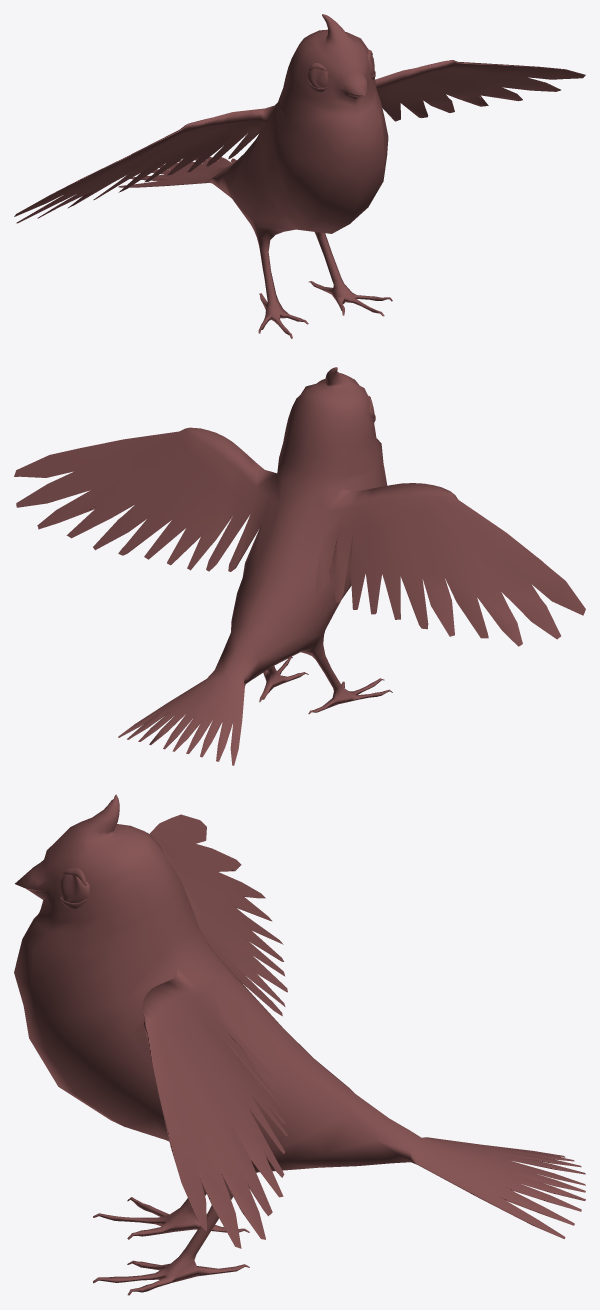
The model's file is burb.glb.
3 renders of one model, top to bottom at view 1: azimuth 30°, elevation 25°; view 2: azimuth 150°, elevation 25°; view 3: azimuth 270°, elevation 25°, orthographic. The views are drawn at different scales.
Parts seen in each view (by area): view 1: burb_Low, burb_Eyes_low; view 2: burb_Low; view 3: burb_Low, burb_Eyes_low.
Part boxes in pixels (bbox=[...]): burb_Low: bbox=[14, 14, 585, 338]; burb_Eyes_low: bbox=[307, 54, 374, 88]; burb_Low: bbox=[14, 367, 585, 765]; burb_Low: bbox=[14, 794, 585, 1295]; burb_Eyes_low: bbox=[60, 874, 89, 903].
Bounding box in the file's own units: 0.6211 × 0.3238 × 0.3708.
